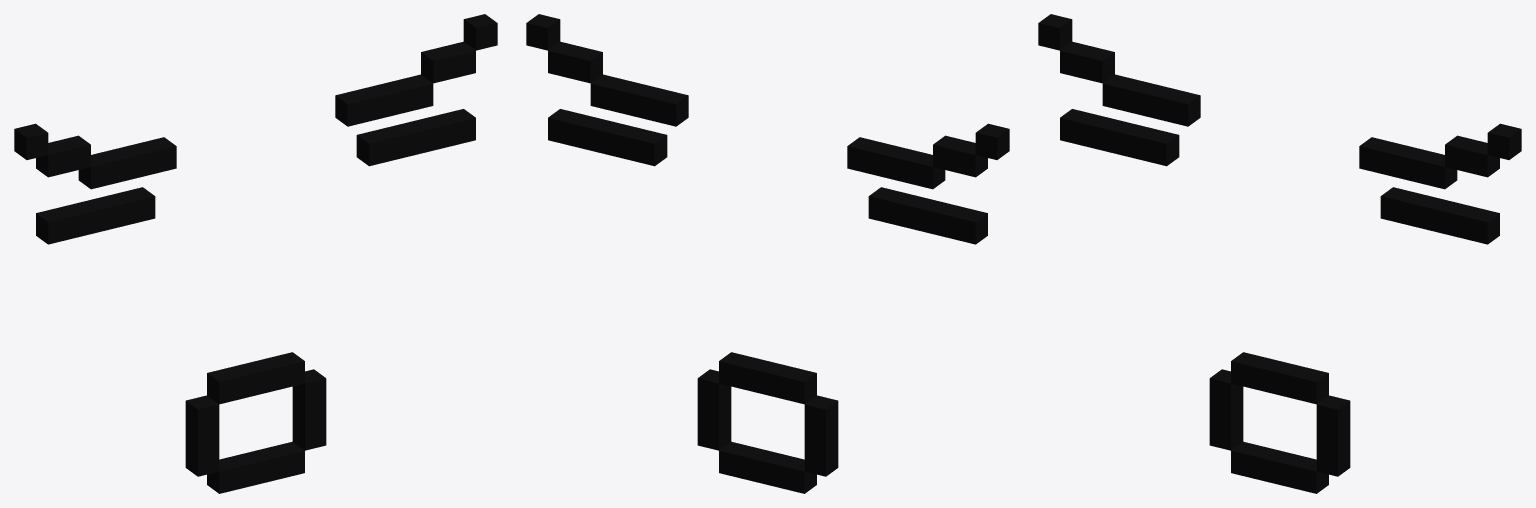
File: Angry.fbx
3 views of the same model, side by side, from view 1: azimuth 30°, elevation 25°; view 2: azimuth 150°, elevation 25°; view 3: azimuth 330°, elevation 25° (orthographic).
Visible parts, largest first — view 1: AngryFace; view 2: AngryFace; view 3: AngryFace.
Boxes of the visible parts, bbox=[...] form: AngryFace: bbox=[14, 14, 497, 493]; AngryFace: bbox=[526, 14, 1009, 493]; AngryFace: bbox=[1038, 14, 1521, 493].
Size of the model in its own units: 220 by 10 by 180.
Materials: 1 (1 with a texture image).
